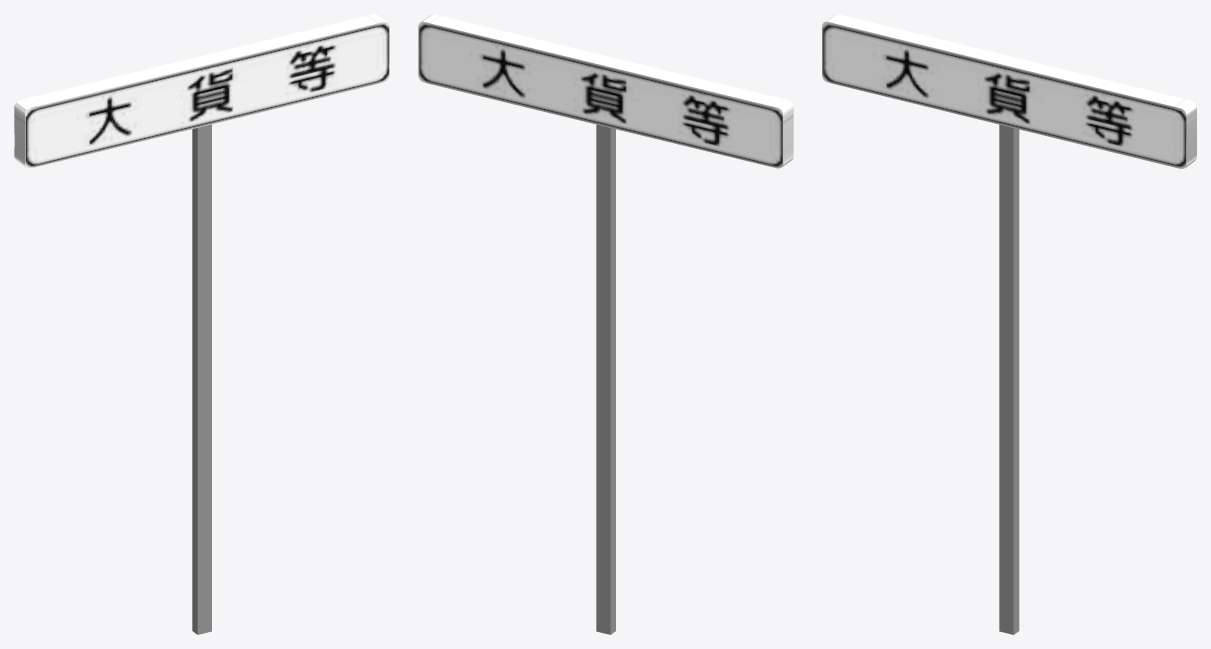
Rendered from c5578a5c-3acd-4f50-9d16-b84bf84bb713.glb.
3 views of the same model, side by side, from view 1: azimuth 30°, elevation 25°; view 2: azimuth 150°, elevation 25°; view 3: azimuth 330°, elevation 25° (orthographic).
Parts seen in each view (by area): view 1: Asian3Sign; view 2: Asian3Sign; view 3: Asian3Sign.
Part boxes in pixels (x1,y1,x2,y2): Asian3Sign: [14, 14, 389, 634]; Asian3Sign: [418, 14, 793, 634]; Asian3Sign: [822, 14, 1196, 634].
Size of what is drawn, in the model's own units: 1.22 by 1.83 by 0.0608.
Materials: 2 (2 with a texture image).
